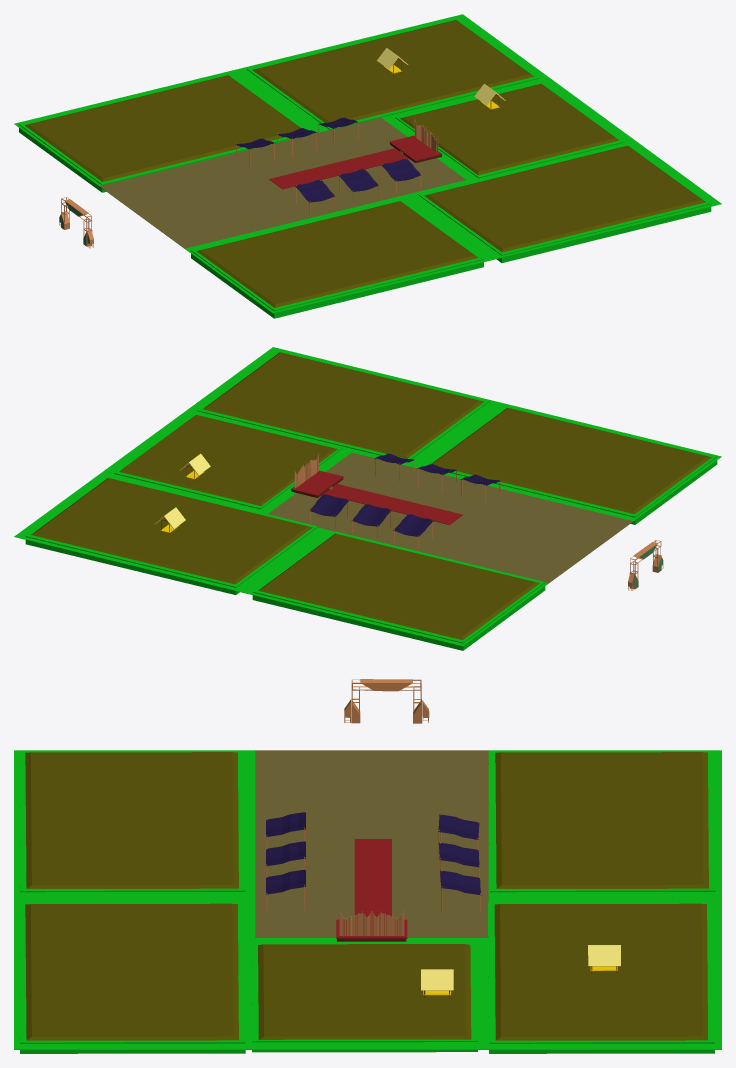
Rendered from Festive.fbx.
The picture shows the model from 3 angles, top to bottom: view 1: azimuth 30°, elevation 25°; view 2: azimuth 150°, elevation 25°; view 3: azimuth 270°, elevation 25°; orthographic projection. The views are drawn at different scales.
Parts seen in each view (by area): view 1: Plane, Cube.005, Cube.006, Cube.002, Cube.004, Cube.007, Plane.001, Cube, Cube.014, Cylinder.001, Cylinder, Cylinder.002; view 2: Plane, Cube.002, Cube.004, Cube.005, Cube.006, Cube.007, Plane.001, Cube, Cube.014, Cylinder.005, Cylinder.004, Cylinder.003; view 3: Plane, Cube.006, Cube.004, Cube.005, Cube.002, Cube.007, Plane.001, Cube.014, Cylinder.055, Cube.003, Cube.008, Cylinder.003 (+6 smaller).
Boxes of the visible parts, x1,y1,x2,y2 form: Plane: (14, 14, 721, 313); Cube.005: (191, 198, 483, 318); Cube.006: (418, 143, 711, 262); Cube.002: (19, 72, 306, 192); Cube.004: (247, 17, 539, 129); Cube.007: (395, 81, 624, 178); Plane.001: (269, 148, 408, 189); Cube: (389, 135, 442, 163); Cube.014: (59, 197, 93, 248); Cylinder.001: (338, 169, 378, 203); Cylinder: (381, 158, 421, 192); Cylinder.002: (295, 179, 334, 213); Plane: (14, 347, 721, 646); Cube.002: (252, 531, 545, 650); Cube.004: (25, 475, 317, 594); Cube.005: (425, 405, 717, 524); Cube.006: (197, 350, 489, 458); Cube.007: (114, 412, 342, 509); Plane.001: (323, 484, 462, 524); Cube: (291, 470, 343, 497); Cube.014: (628, 540, 663, 590); Cylinder.005: (309, 494, 349, 528); Cylinder.004: (351, 504, 391, 538); Cylinder.003: (393, 514, 433, 548); Plane: (14, 750, 721, 1049); Cube.006: (18, 902, 245, 1053); Cube.004: (488, 902, 714, 1053); Cube.005: (18, 750, 245, 892); Cube.002: (488, 750, 715, 892); Cube.007: (251, 943, 477, 1052); Plane.001: (354, 839, 391, 919); Cube.014: (344, 679, 429, 723); Cylinder.055: (339, 911, 404, 936); Cube.003: (421, 969, 453, 997); Cube.008: (588, 945, 620, 973); Cylinder.003: (438, 814, 479, 855).
Bounding box in the file's own units: 19737 × 1096 × 17305.
